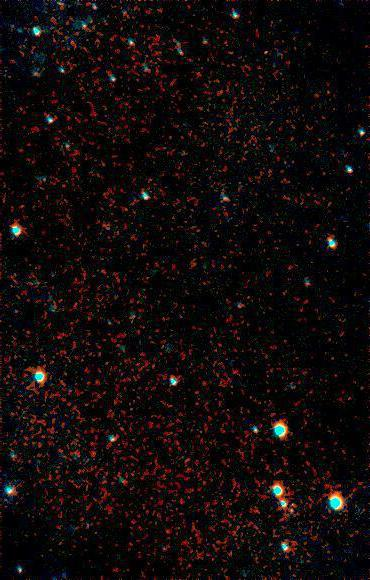star: (277, 497, 307, 527)
